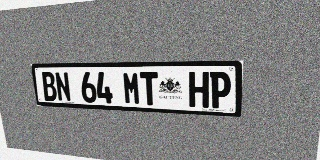4: (95, 72, 113, 104)
6: (79, 72, 97, 103)
B: (41, 72, 58, 101)
H: (189, 72, 209, 108)
M: (122, 72, 141, 105)
N: (54, 72, 72, 102)
P: (209, 72, 231, 109)
T: (140, 72, 159, 106)
